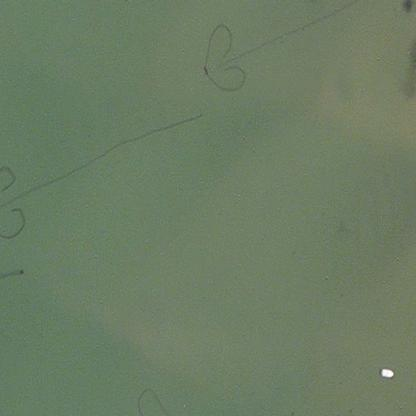ship: (380, 366, 392, 379)
